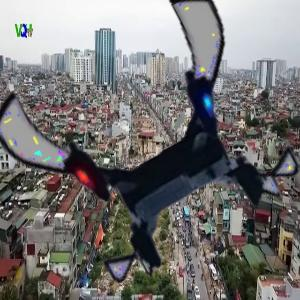drone: (15, 12, 276, 273)
